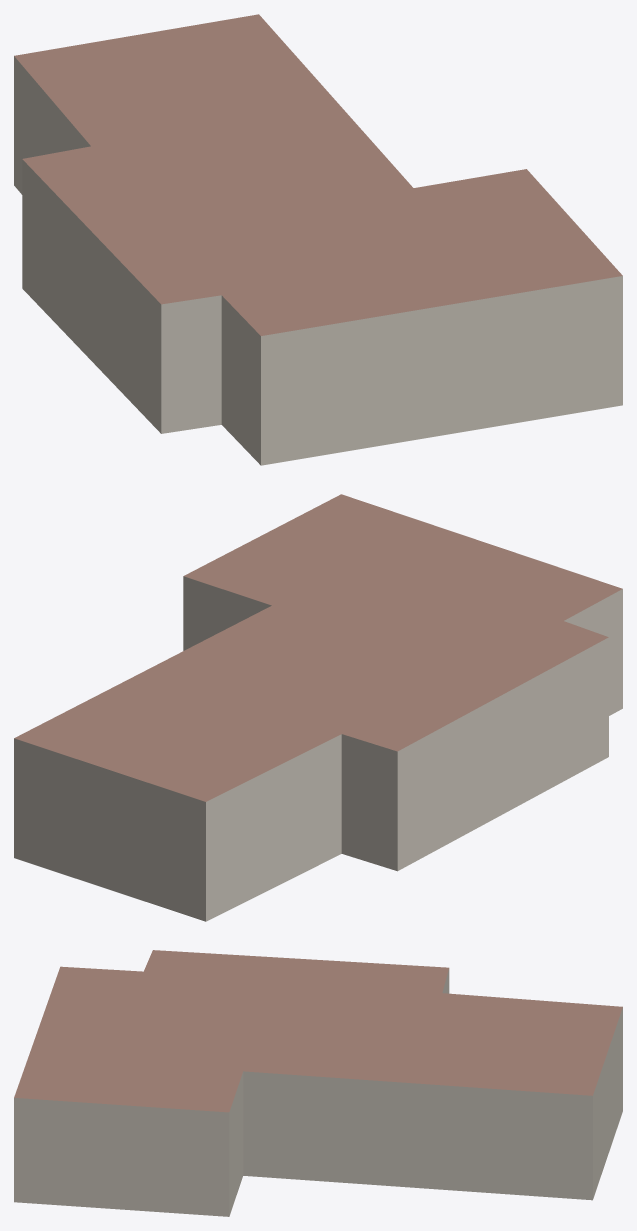
3 renders of one model, top to bottom at view 1: azimuth 30°, elevation 25°; view 2: azimuth 150°, elevation 25°; view 3: azimuth 270°, elevation 25°, orthographic. The views are drawn at different scales.
Parts seen in each view (by area): view 1: tuile; view 2: tuile; view 3: tuile.
Part boxes in pixels (left/top/right/bottom): tuile: left=14, top=14, right=622, bottom=465; tuile: left=14, top=494, right=622, bottom=921; tuile: left=14, top=950, right=622, bottom=1216.
Bounding box in the file's own units: 16.6 × 4.98 × 26.3.
